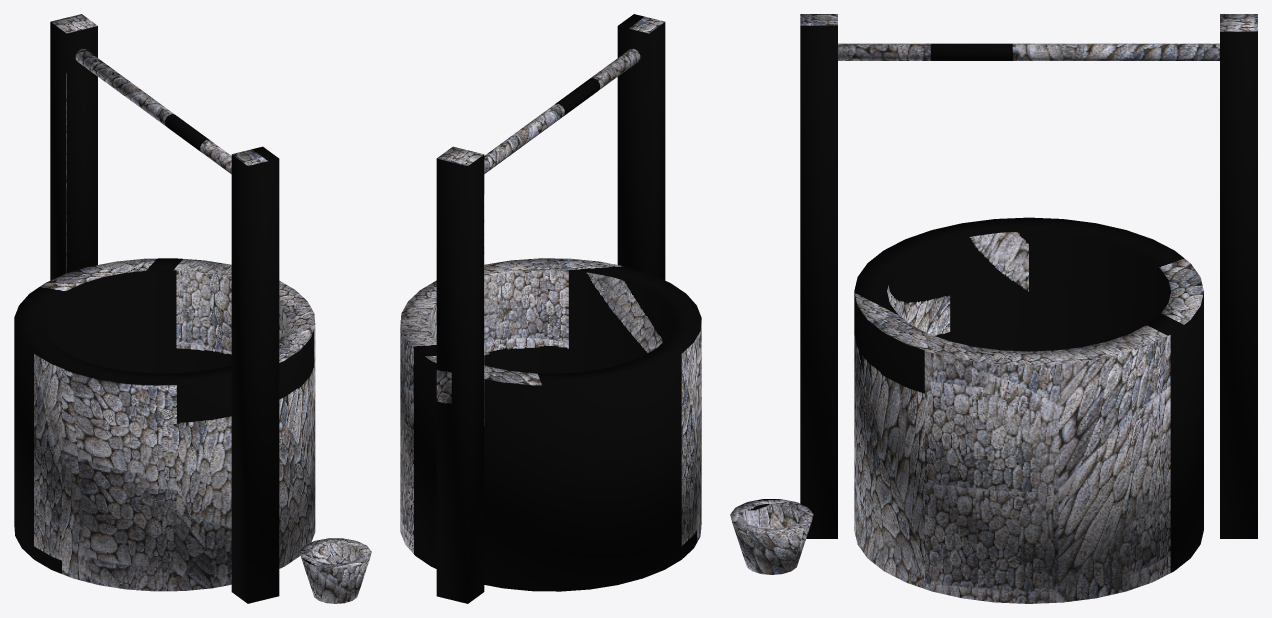
The model's file is brunnen.fbx.
3 renders of one model, left to right at view 1: azimuth 30°, elevation 25°; view 2: azimuth 150°, elevation 25°; view 3: azimuth 270°, elevation 25°, orthographic. The views are drawn at different scales.
Visible parts, largest first — view 1: Circle; view 2: Circle; view 3: Circle.
Part boxes in pixels (left/top/right/bottom): Circle: left=14, top=14, right=371, bottom=603; Circle: left=400, top=14, right=701, bottom=603; Circle: left=730, top=14, right=1257, bottom=603.
Size of the model in its own units: 2 by 3.2 by 3.02.
